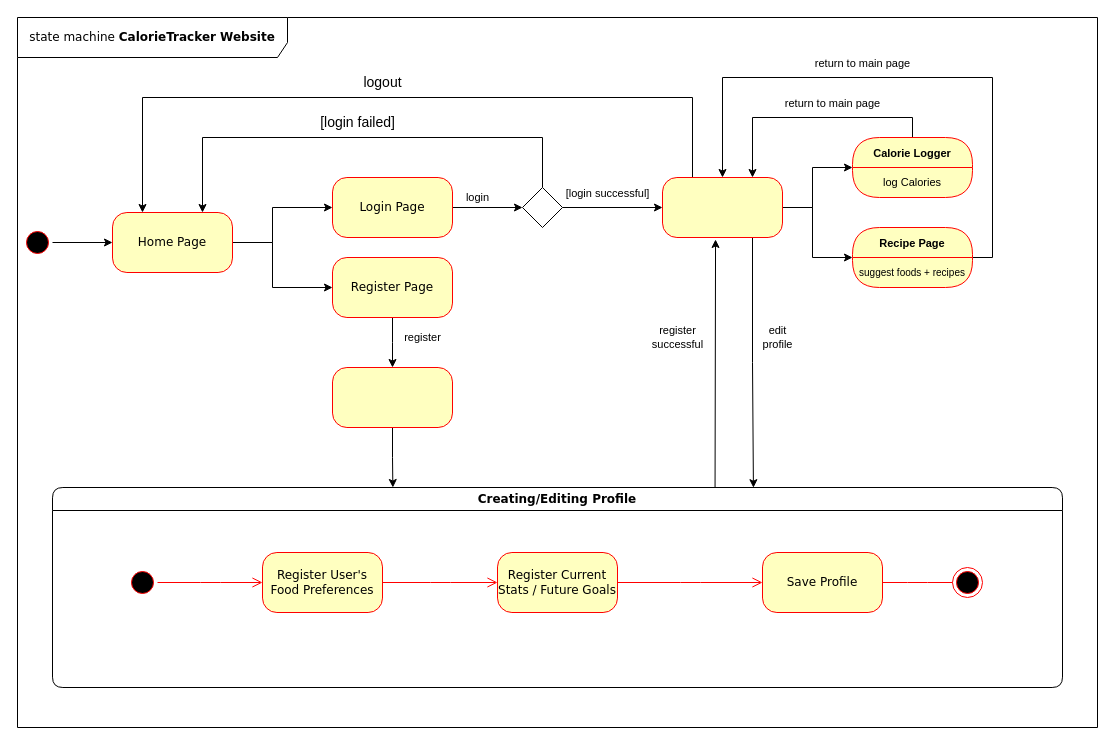
Some shapes in this 1115 by 745 pixel diagram are drawn without their labels. The shapes that lost their labels are listed below. From the top down, each one's centre as x and y in pixels, then its label:
At pixel 722 207: "Main Account Page".
At pixel 392 397: "Register Credentials".
